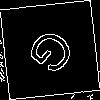G: (25, 25, 85, 85)
